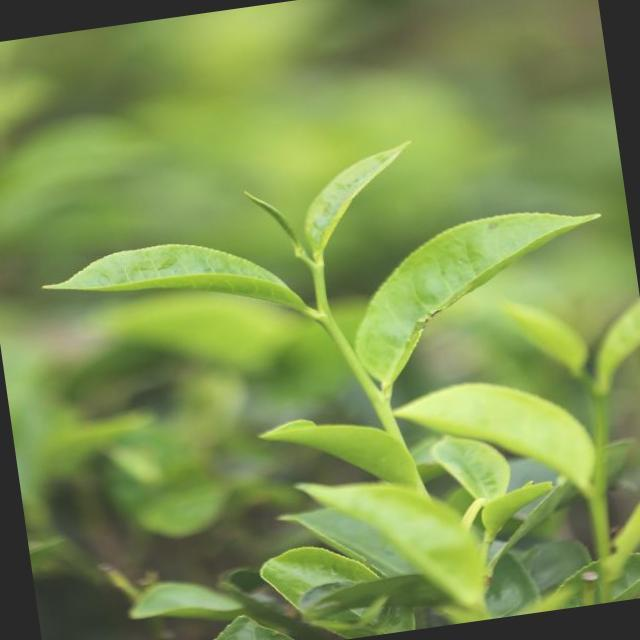Stem: (318, 307, 330, 322)
